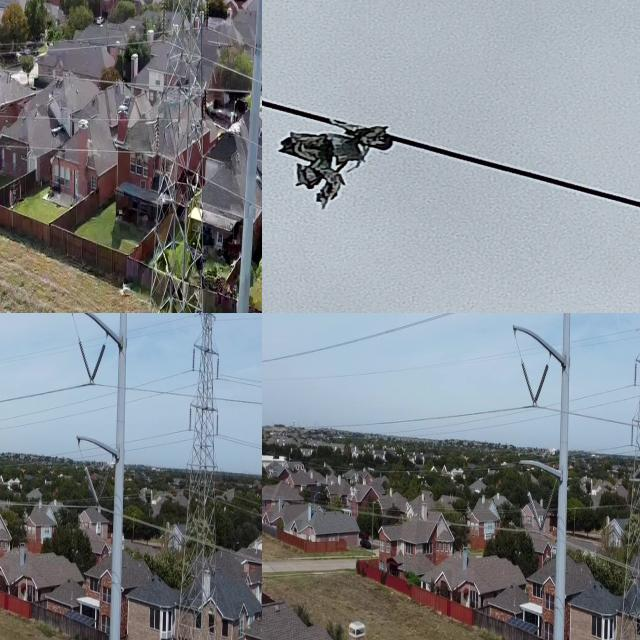杆塔: (129, 0, 213, 313), (163, 313, 230, 640), (604, 313, 640, 640)
植被遮挡: (265, 116, 409, 213)
正常绝缘子: (89, 462, 115, 527), (514, 349, 540, 413), (84, 335, 112, 394), (527, 355, 552, 418), (71, 328, 96, 389), (80, 457, 105, 514), (522, 476, 544, 537), (535, 480, 556, 541), (184, 398, 194, 434), (213, 402, 222, 440), (154, 108, 160, 158), (190, 338, 197, 375), (214, 358, 222, 389), (202, 84, 208, 118), (204, 0, 209, 28), (162, 0, 165, 43), (633, 357, 637, 388), (630, 422, 634, 448), (185, 463, 188, 489), (216, 466, 219, 492)
